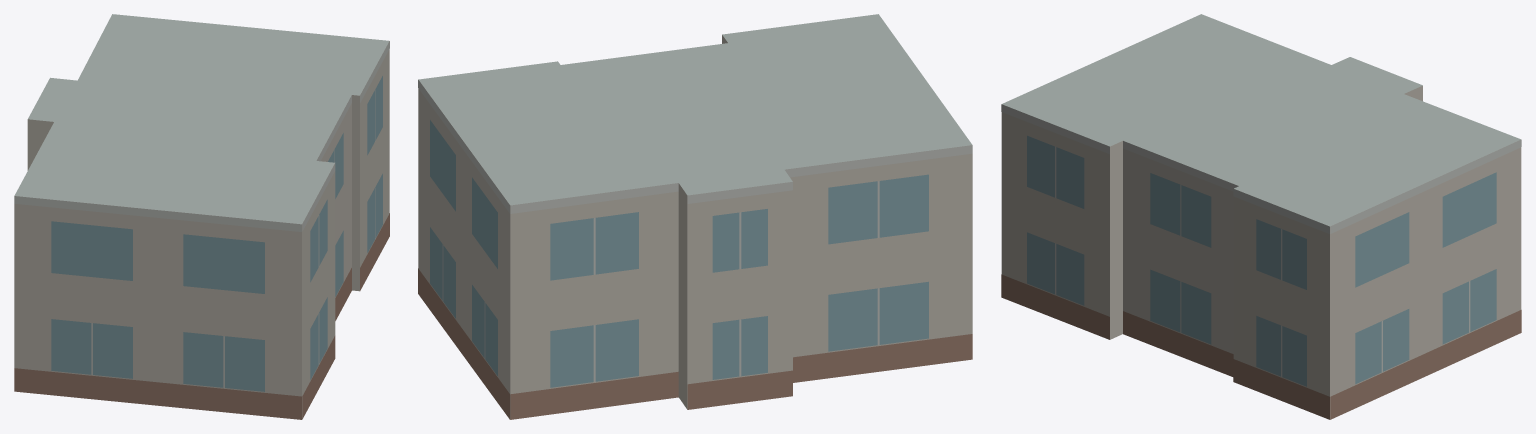
The model's file is survey-upis-32976268.glb.
3 renders of one model, left to right at view 1: azimuth 30°, elevation 25°; view 2: azimuth 150°, elevation 25°; view 3: azimuth 270°, elevation 25°, orthographic. The views are drawn at different scales.
Parts seen in each view (by area): view 1: survey-upis-32976268.tmp; view 2: survey-upis-32976268.tmp; view 3: survey-upis-32976268.tmp.
Boxes of the visible parts, x1,y1,x2,y2 form: survey-upis-32976268.tmp: (14,14,389,419); survey-upis-32976268.tmp: (418,14,972,419); survey-upis-32976268.tmp: (1001,14,1521,419).
Size of the model in its own units: 14.39 by 6.1 by 14.87.
